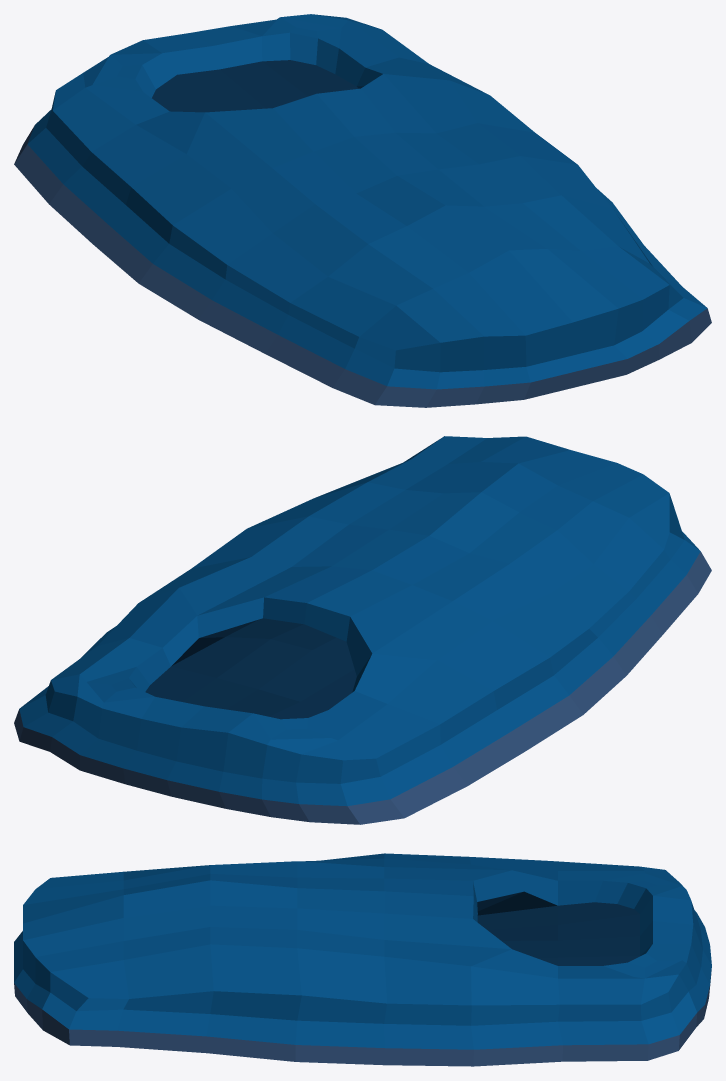
File: SleepingBag.fbx
3 renders of one model, top to bottom at view 1: azimuth 30°, elevation 25°; view 2: azimuth 150°, elevation 25°; view 3: azimuth 270°, elevation 25°, orthographic. The views are drawn at different scales.
Visible parts, largest first — view 1: pCube1; view 2: pCube1; view 3: pCube1.
Boxes of the visible parts, x1=… form: pCube1: x1=14, y1=14, x2=711, y2=407; pCube1: x1=14, y1=436, x2=711, y2=824; pCube1: x1=14, y1=853, x2=711, y2=1066.
Size of the model in its own units: 18.82 by 4.19 by 30.13.
